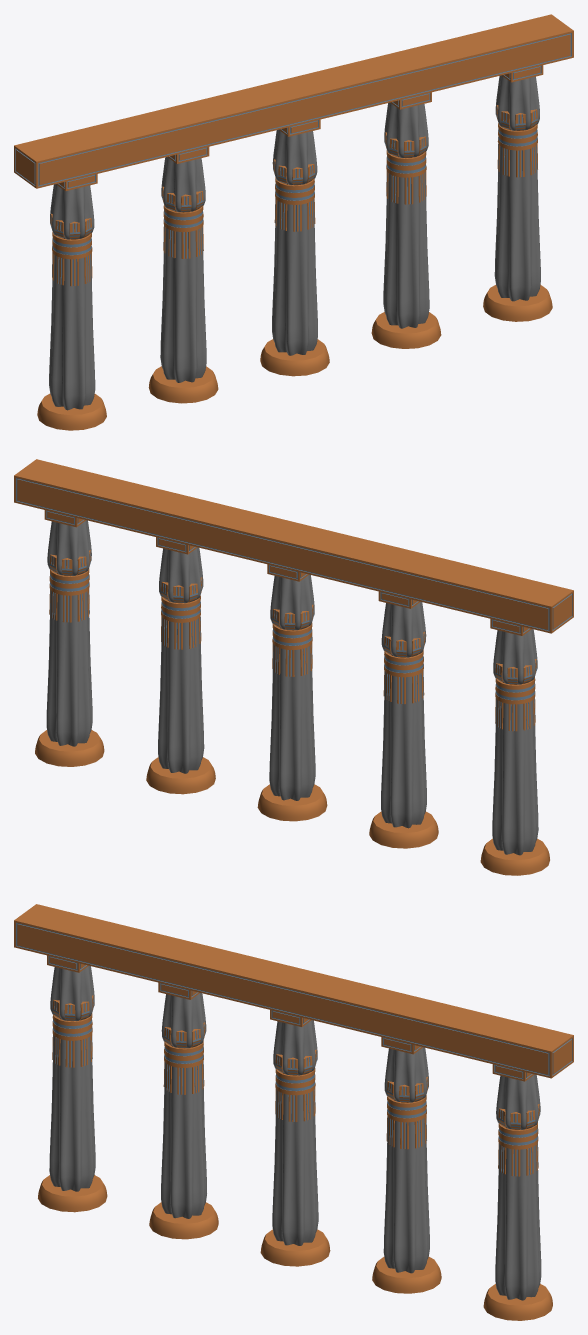
File: EGYPT 0235.FBX
The picture shows the model from 3 angles, top to bottom: view 1: azimuth 30°, elevation 25°; view 2: azimuth 150°, elevation 25°; view 3: azimuth 330°, elevation 25°; orthographic projection.
Parts seen in each view (by area): view 1: Box06, Line006, Line008, Line03, Line009, Line007; view 2: Box06, Line007, Line03, Line009, Line006, Line008; view 3: Box06, Line009, Line007, Line03, Line008, Line006.
Part boxes in pixels (x1,y1,x2,y2): Box06: (14,14,573,188); Line006: (148,147,218,403); Line008: (371,92,441,348); Line03: (37,174,106,430); Line009: (483,65,552,321); Line007: (260,119,329,376); Box06: (14,459,573,633); Line007: (257,564,327,821); Line03: (480,619,549,875); Line009: (35,510,104,766); Line006: (369,591,438,848); Line008: (146,537,215,794); Box06: (14,904,573,1078); Line009: (483,1064,552,1320); Line007: (260,1010,330,1266); Line03: (38,955,107,1212); Line008: (372,1037,441,1293); Line006: (149,982,218,1239).
Size of the model in its own units: 1962 by 956 by 216.
